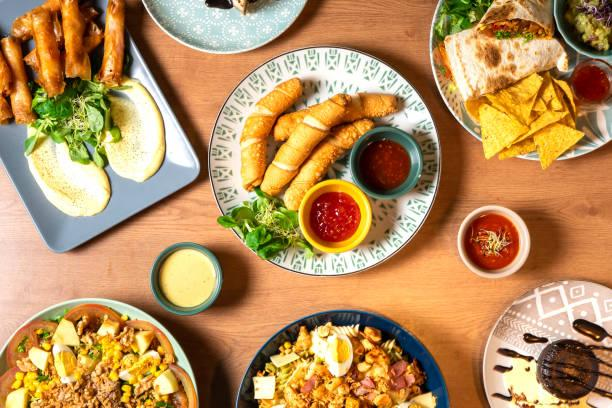Braised Crucian Carp: (209, 42, 436, 275), (2, 0, 199, 253), (429, 0, 606, 164), (0, 296, 200, 408), (236, 312, 449, 408), (482, 284, 612, 408)
